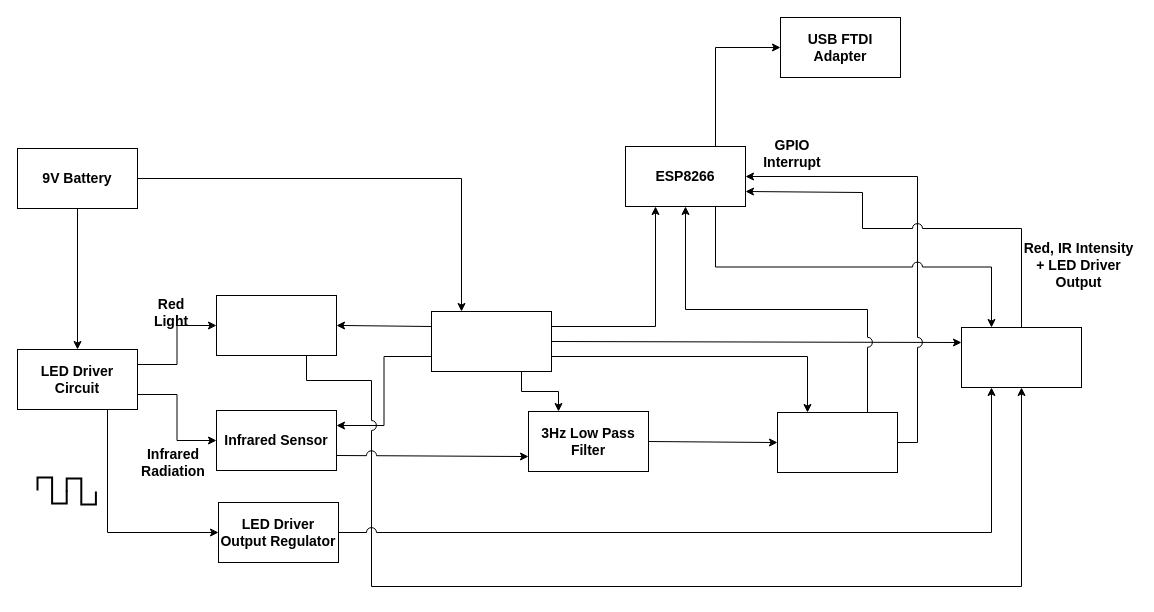
Some shapes in this 1154 by 612 pixel diagram are drawn without their labels. The shapes that lost their labels are listed below. From the top down, each one's centre as x and y in pixels, then its label:
At point 276,325: "Red Light Sensor".
At point 491,341: "3.3V Regulator".
At point 1021,357: "Analog to Digital Converter".
At point 837,442: "Non-Inverting Amplifier".
